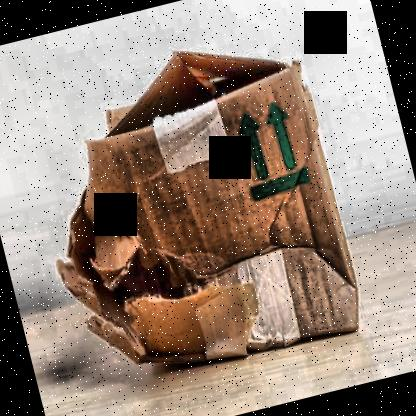defect parcel: (8, 11, 378, 405)
